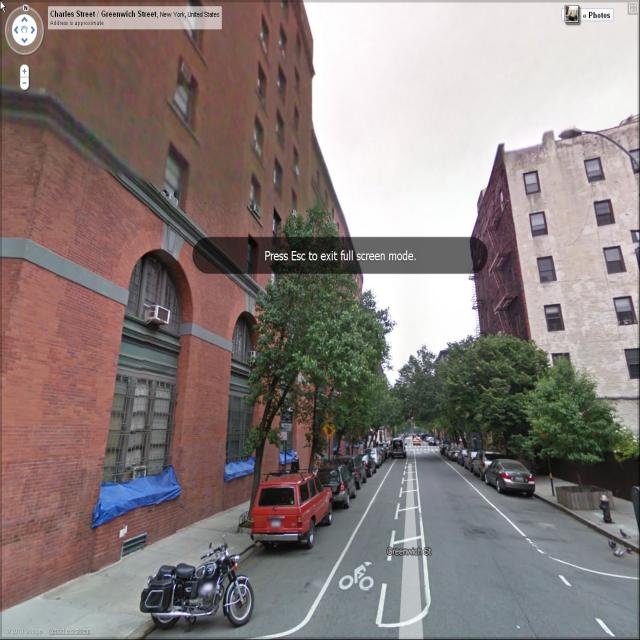b_1: (0, 12, 287, 447), (460, 122, 640, 376)
b_2: (282, 120, 374, 478)
